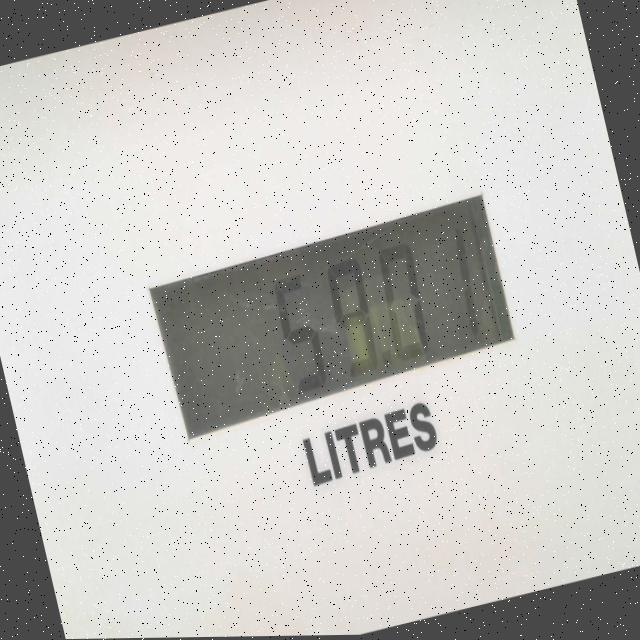.: (378, 342, 394, 375)
0: (372, 241, 442, 371)
1: (433, 223, 496, 351)
5: (261, 270, 334, 409)
9: (310, 244, 388, 397)
